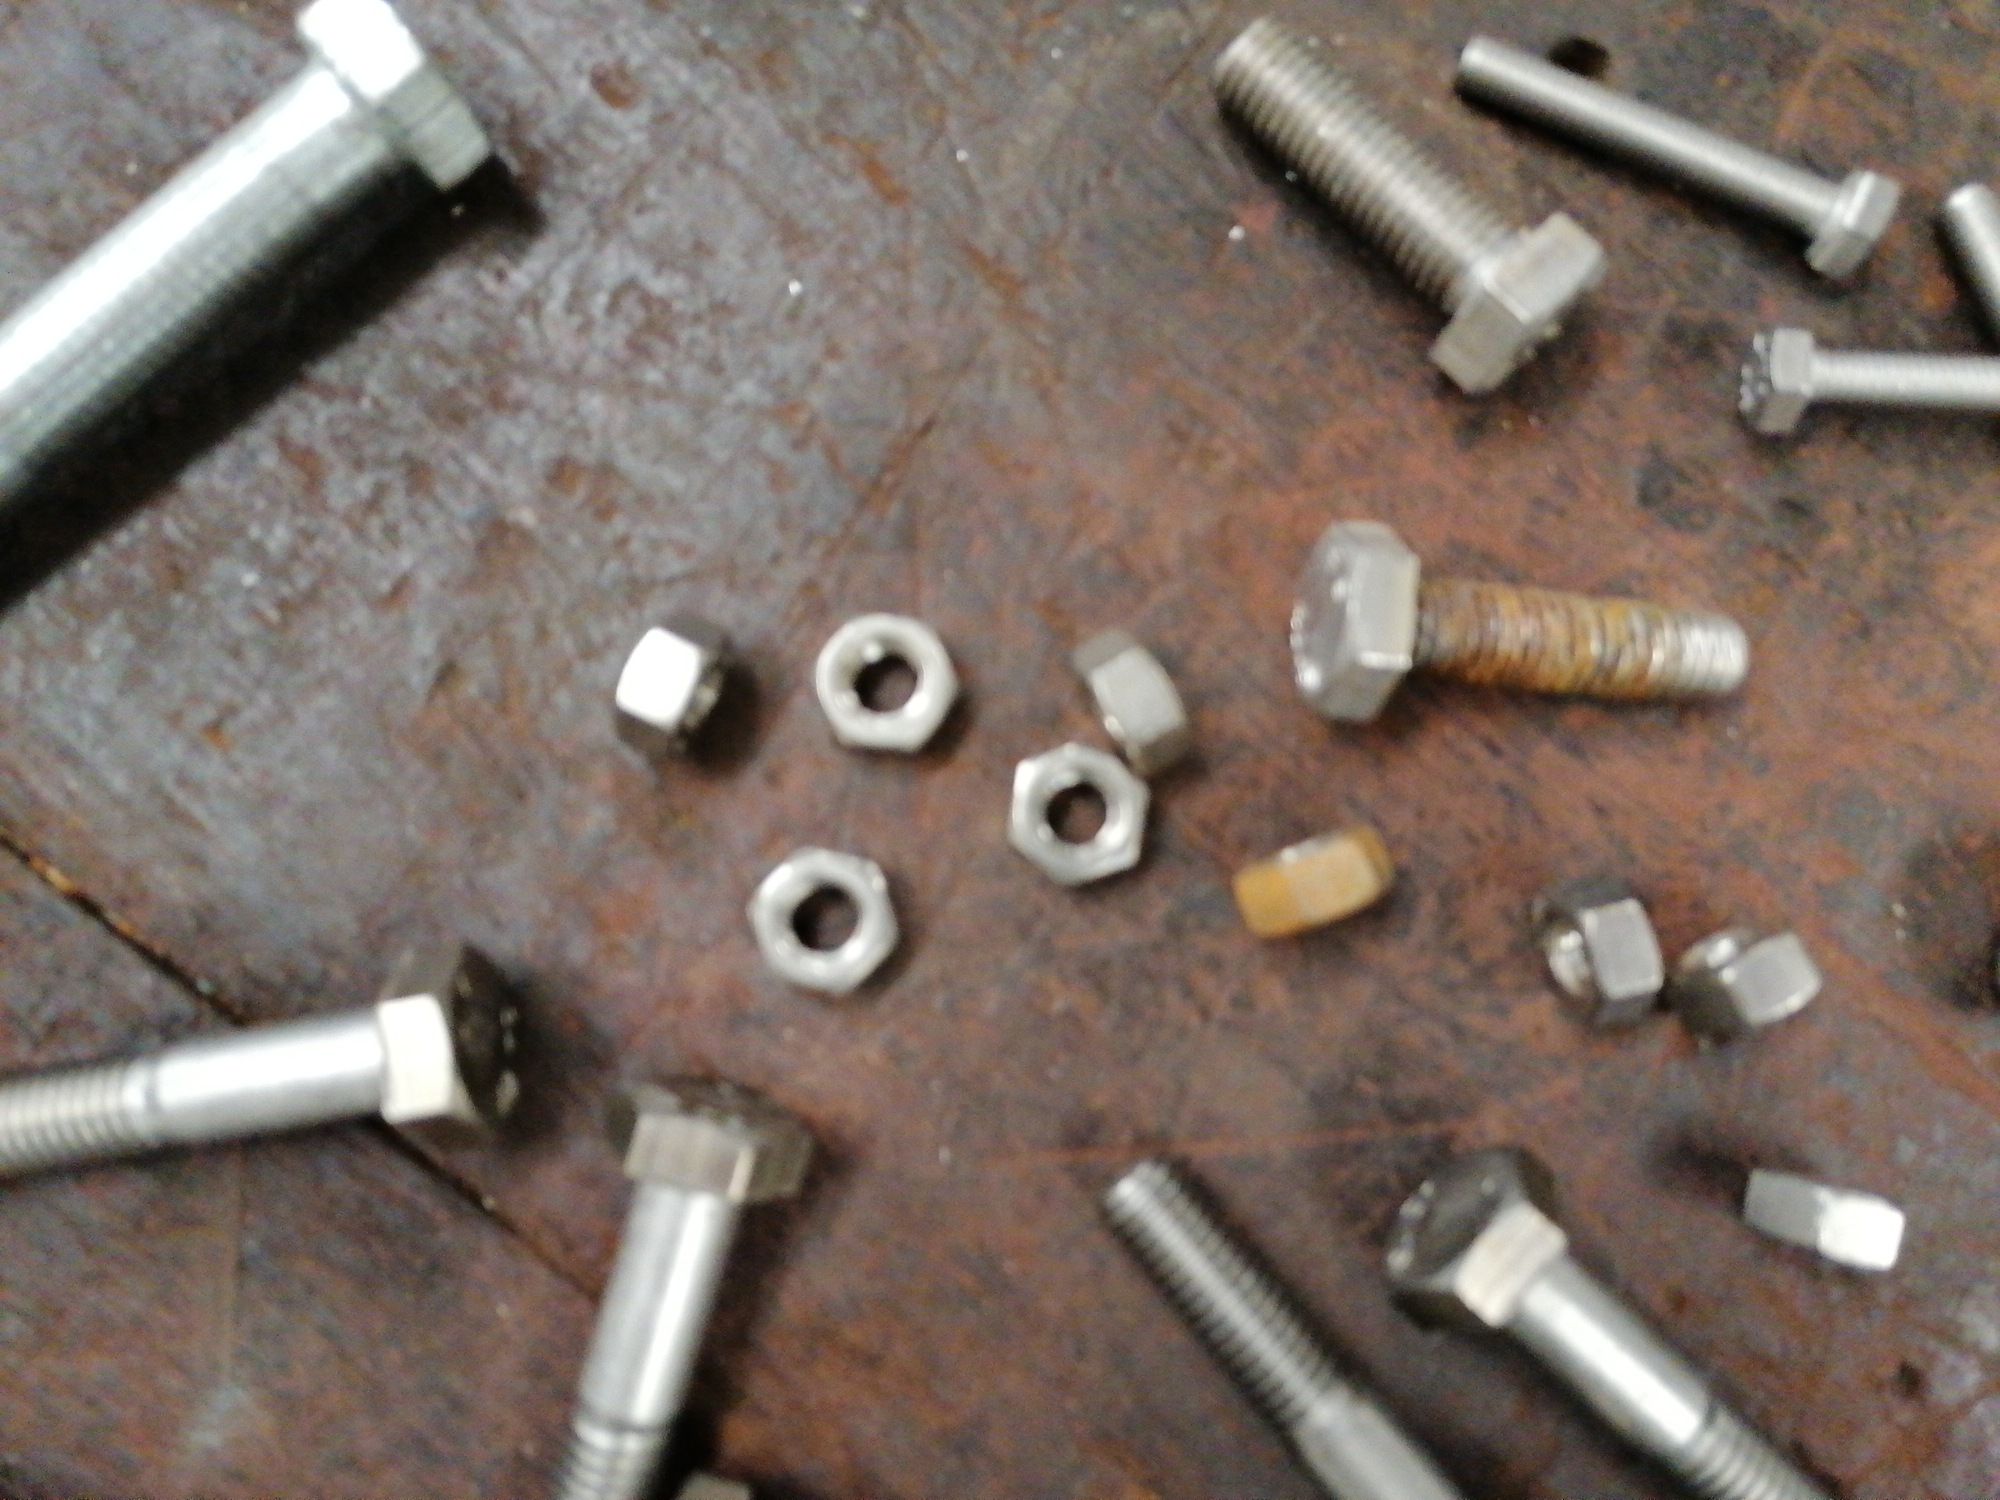bolt: (2, 0, 501, 533), (1383, 1141, 1843, 1498), (1209, 13, 1603, 392), (0, 942, 531, 1185), (1098, 1152, 1468, 1497), (532, 1068, 817, 1498), (1452, 33, 1904, 284), (1735, 325, 1998, 433)
nut: (743, 840, 904, 994), (1528, 867, 1669, 1037), (1002, 741, 1156, 889), (813, 607, 961, 759), (1231, 819, 1398, 947), (1061, 624, 1195, 782), (1669, 915, 1827, 1046), (1734, 1160, 1910, 1275), (608, 605, 732, 766)
